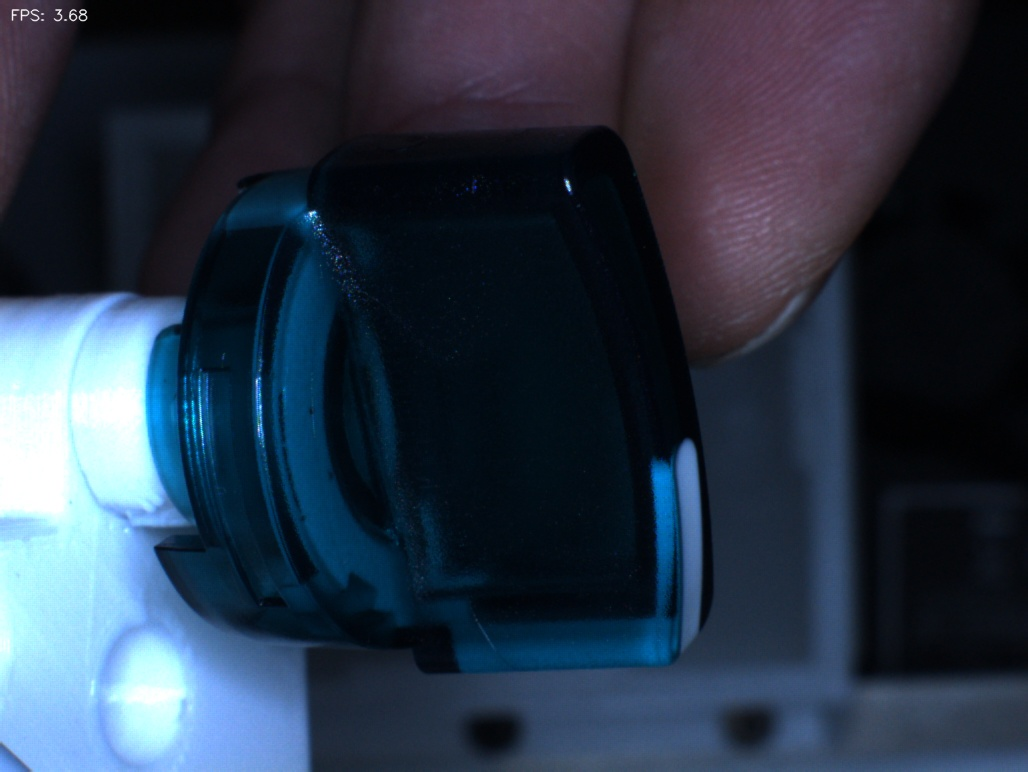PointNoir: (274, 372, 351, 447)
